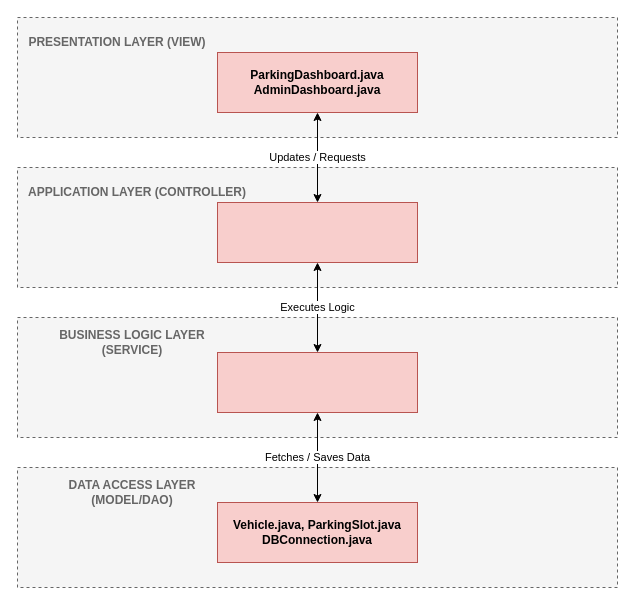
Some shapes in this 635 by 605 pixel diagram are drawn without their labels. Here are the shapes that lost their labels. From the top down, the box of each, then its label:
(216, 202, 418, 262): ParkingController.java
(216, 352, 418, 412): ParkingService.java PaymentService.java
